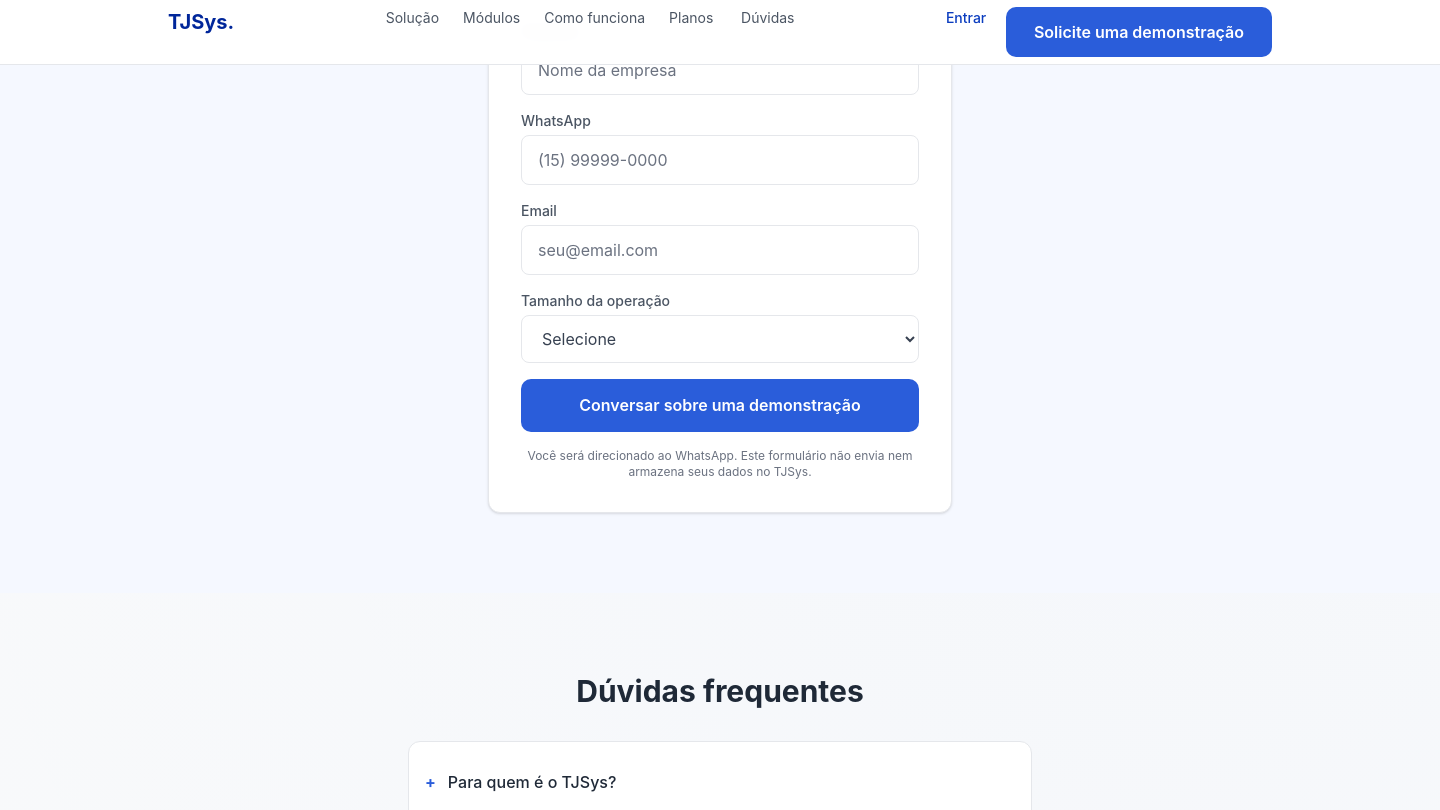
Test: LandingPage › shows validation errors on empty submit
(page scrolled)
Click the button "Conversar sobre uma demonstração" at (720, 406), box [521,379,919,432]
(page scrolled)
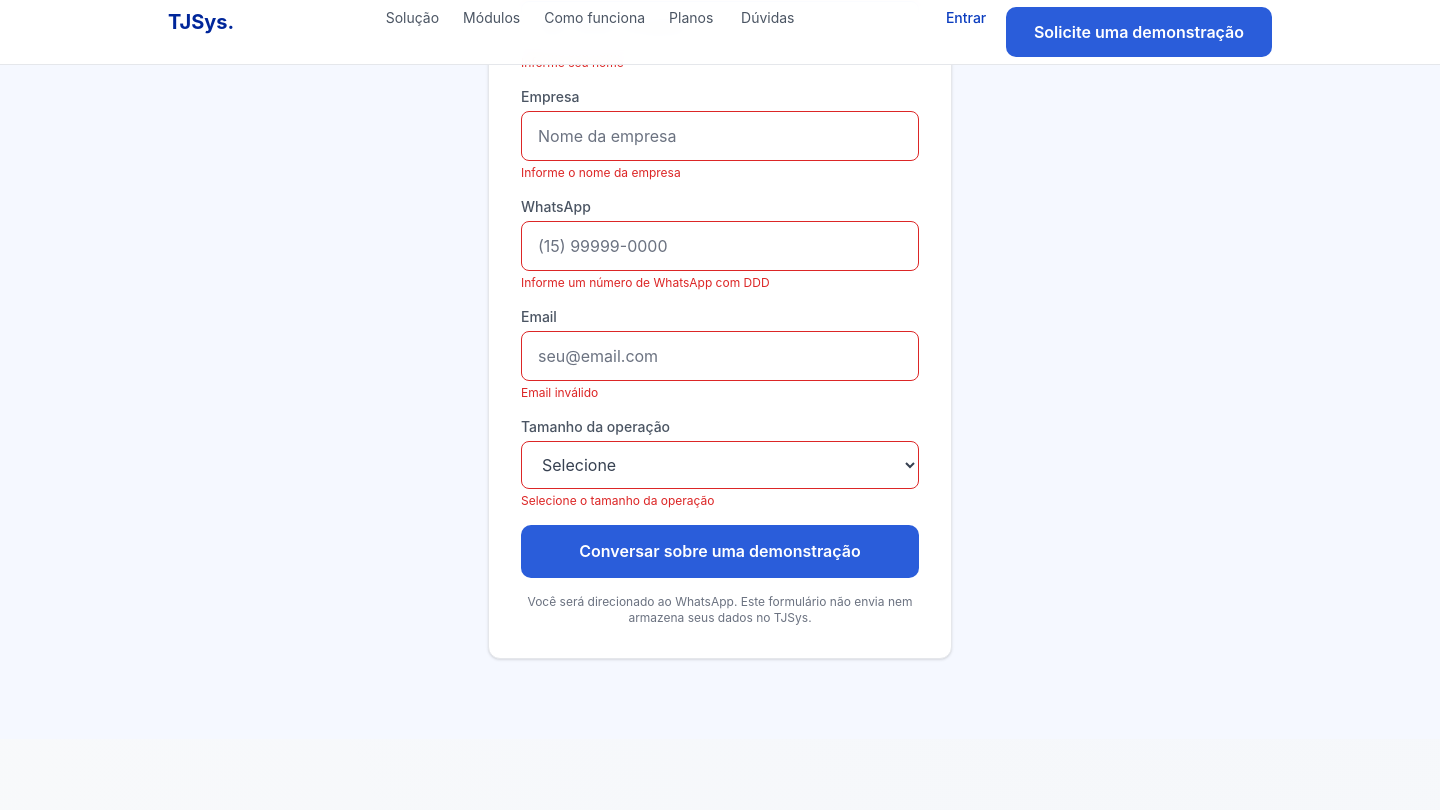
Now the text "Informe seu nome" is shown, box [521,55,624,70]
Now the text "Informe o nome da empresa" is shown, box [521,165,681,180]
Now the text "Informe um número de WhatsApp com DDD" is shown, box [521,275,770,290]
